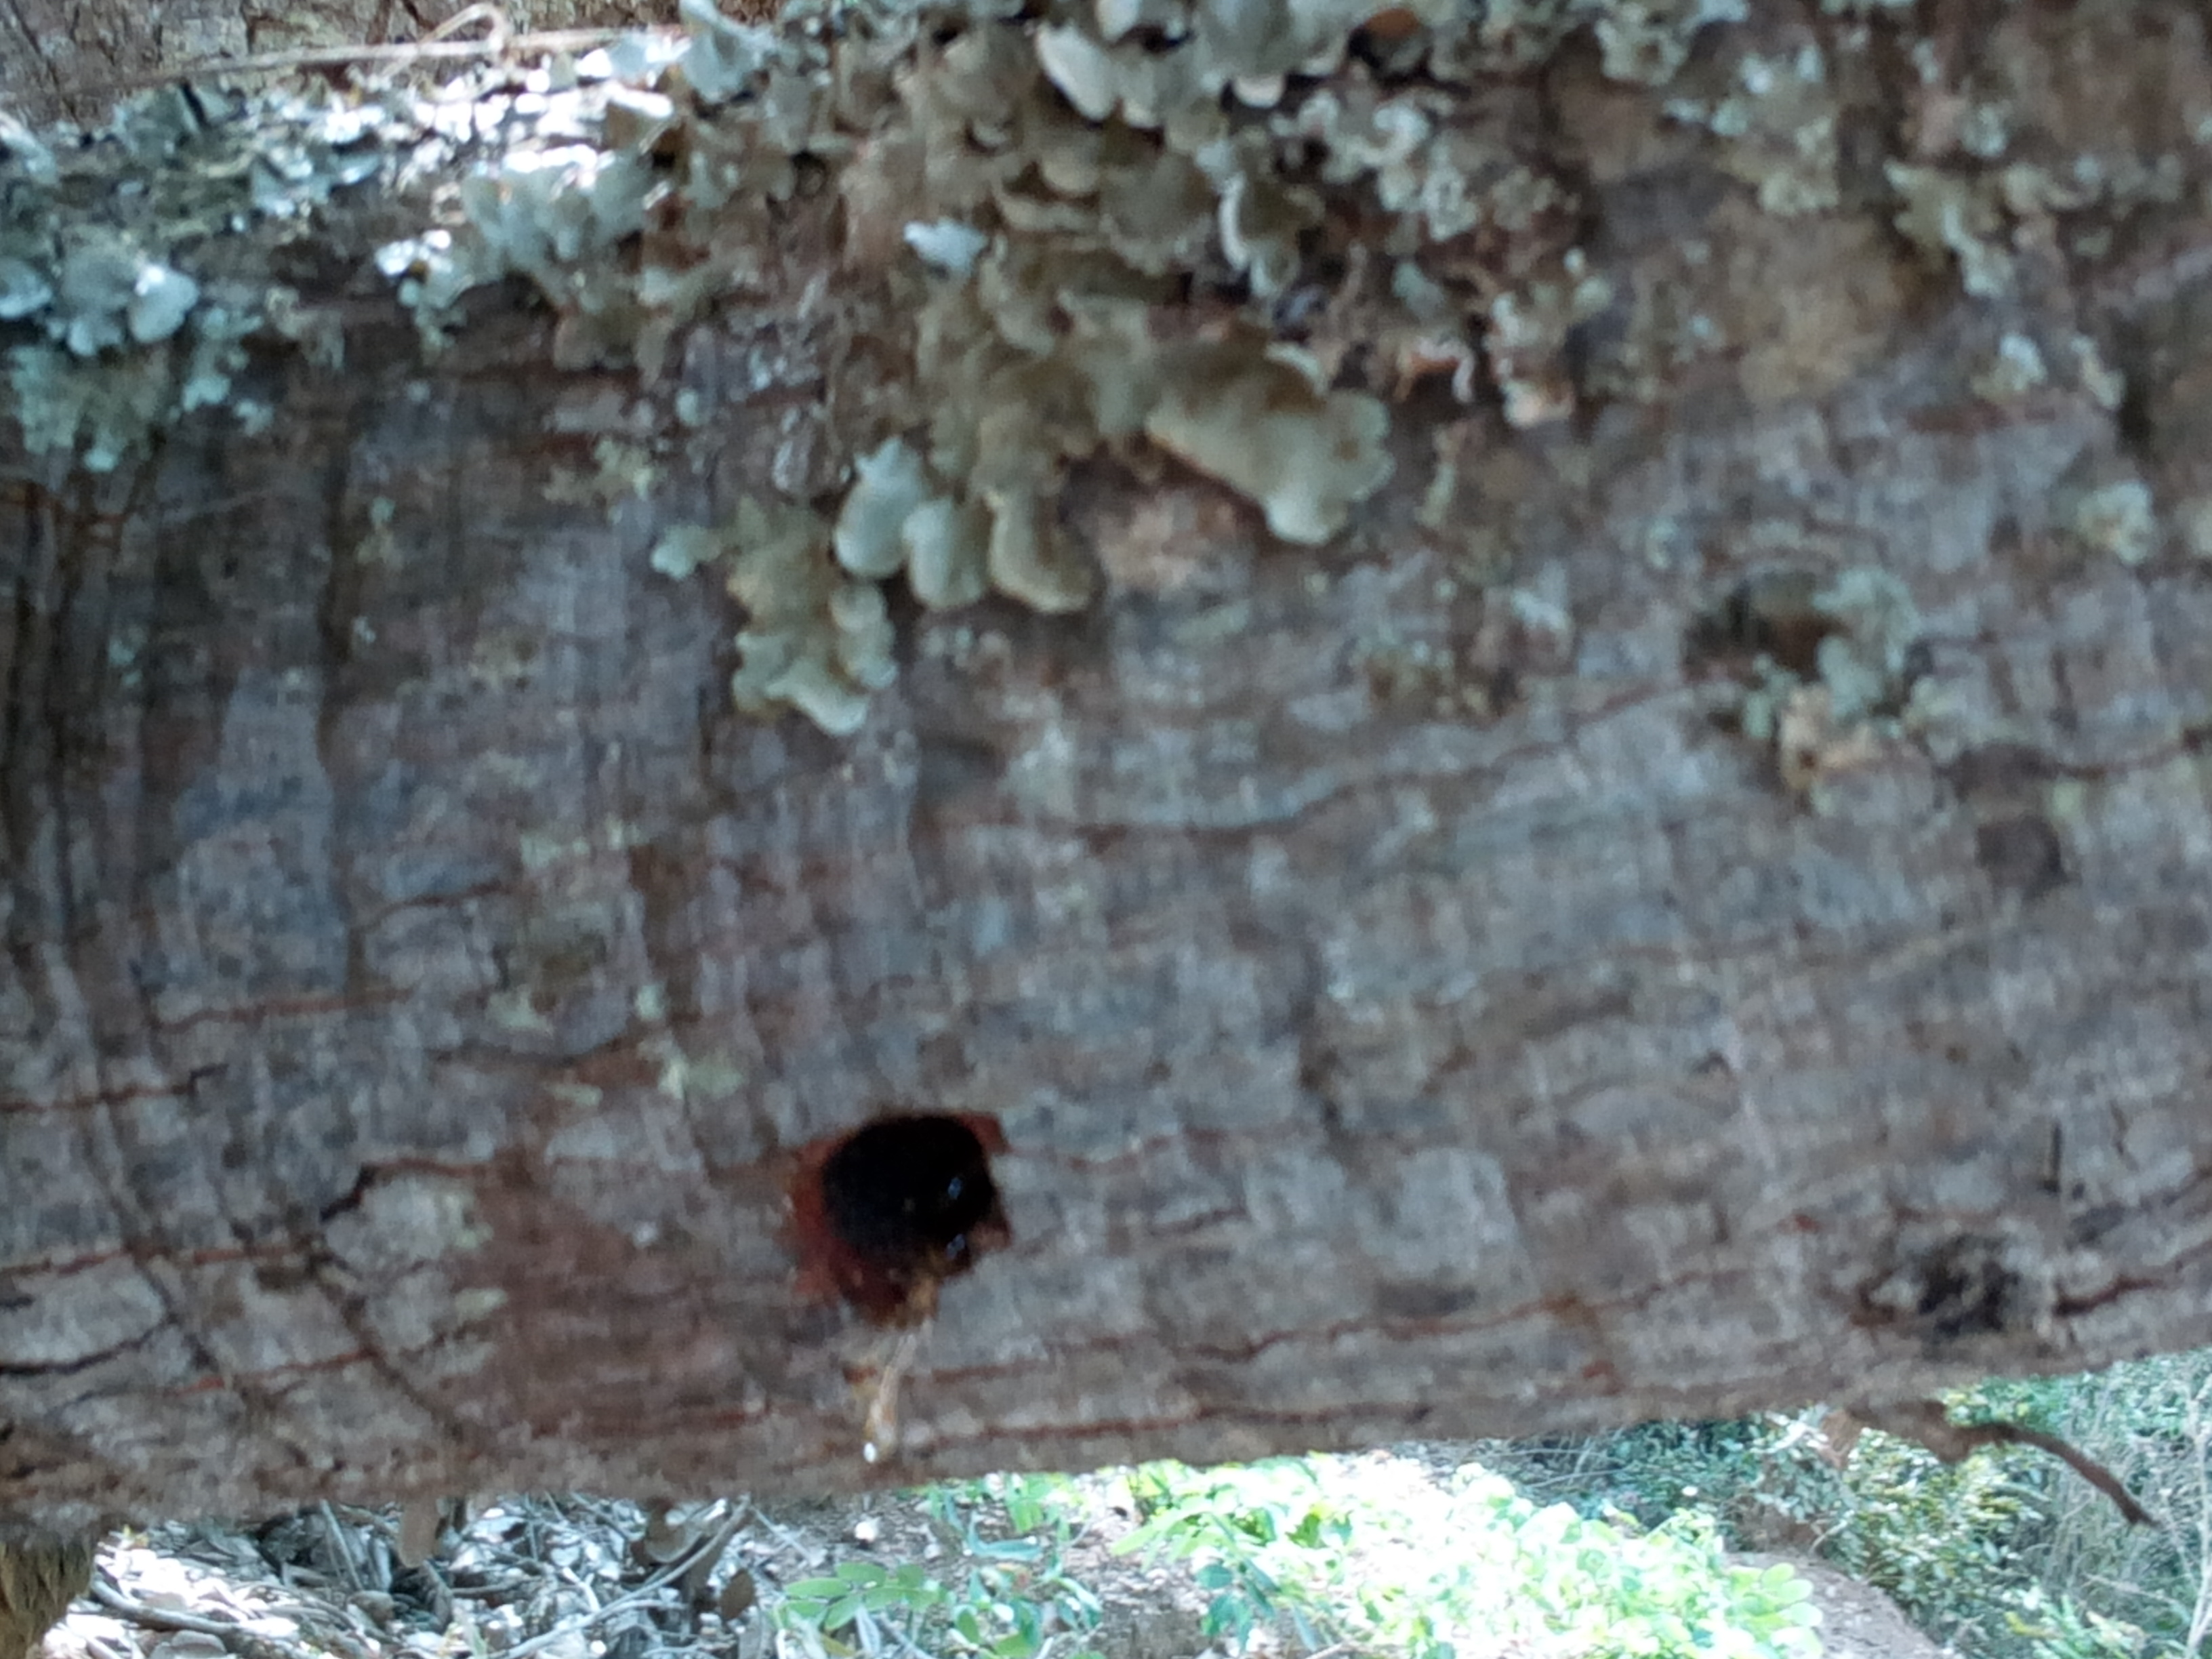Apate terebrans: (745, 1079, 1066, 1473)
